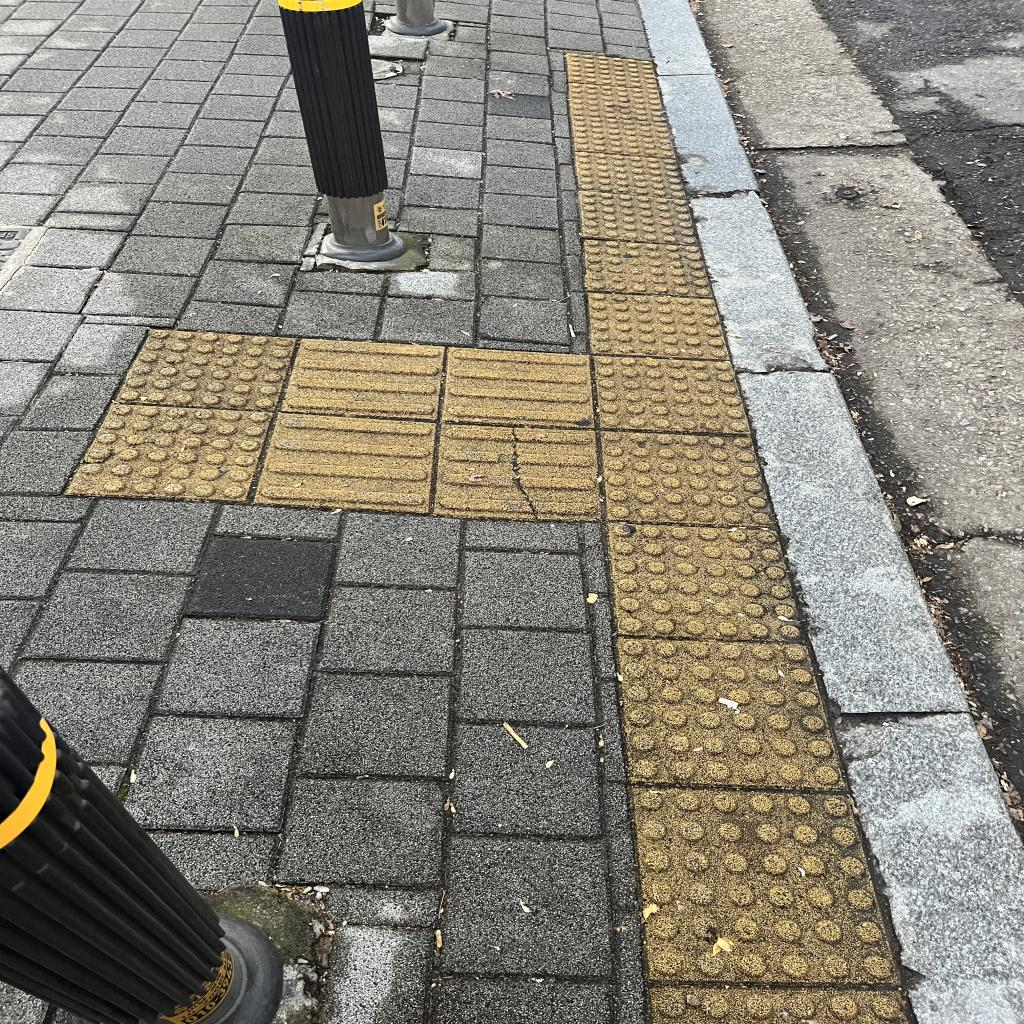Stop block normal: (632, 786, 900, 986), (614, 641, 847, 787), (605, 523, 808, 641), (68, 403, 272, 503), (595, 430, 779, 528), (115, 327, 296, 413), (591, 356, 752, 433), (585, 293, 732, 360), (581, 240, 716, 297), (575, 191, 702, 246)
Straight block broken: (435, 425, 605, 522)
Straight block normal: (255, 411, 436, 512), (282, 339, 444, 418), (443, 347, 599, 428)
